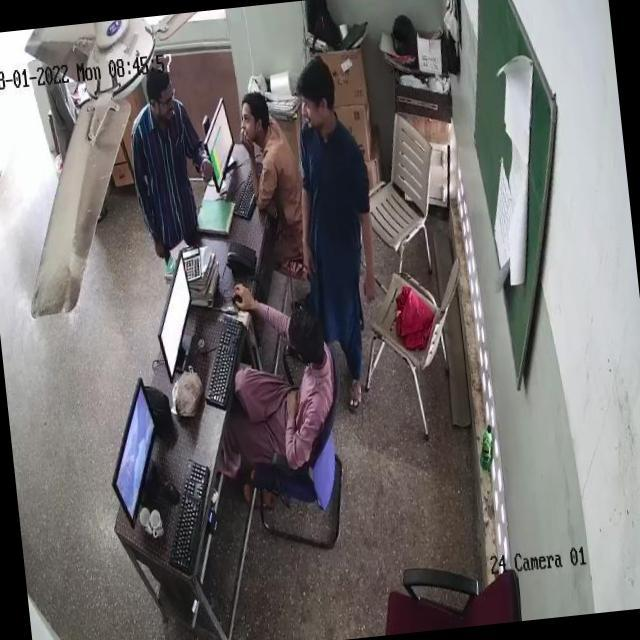person: (289, 51, 371, 408), (220, 302, 344, 503), (126, 66, 204, 245), (242, 92, 314, 263)
